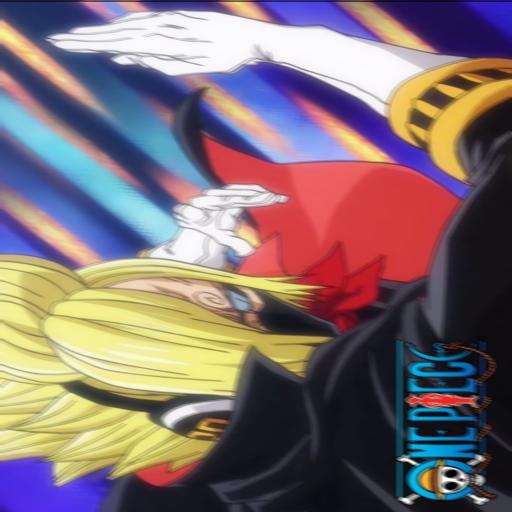sanji: (28, 25, 397, 499)
